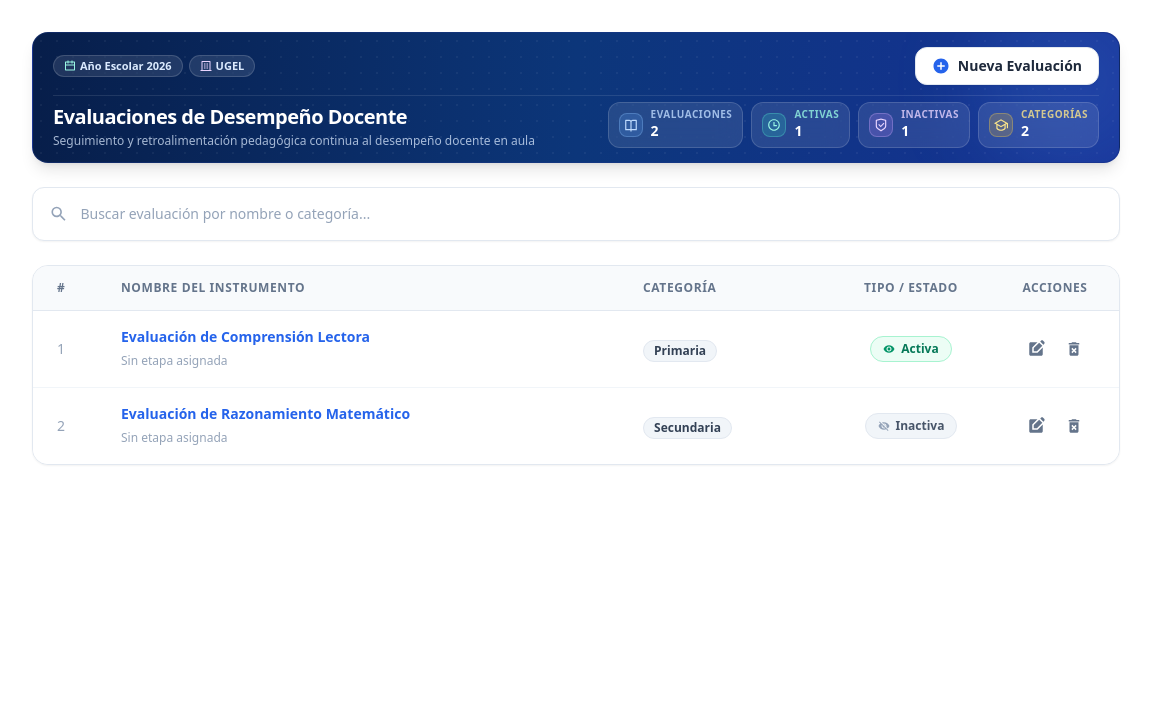
Test: EvaluacionesListContainer › muestra modal de alerta y bloquea la activación si la evaluación inactiva no tiene fase creada
The image size is (1152, 720).
Click the button titled "Inactiva (Clic para activar)". click: (911, 426)
box: [864,413,957,439]
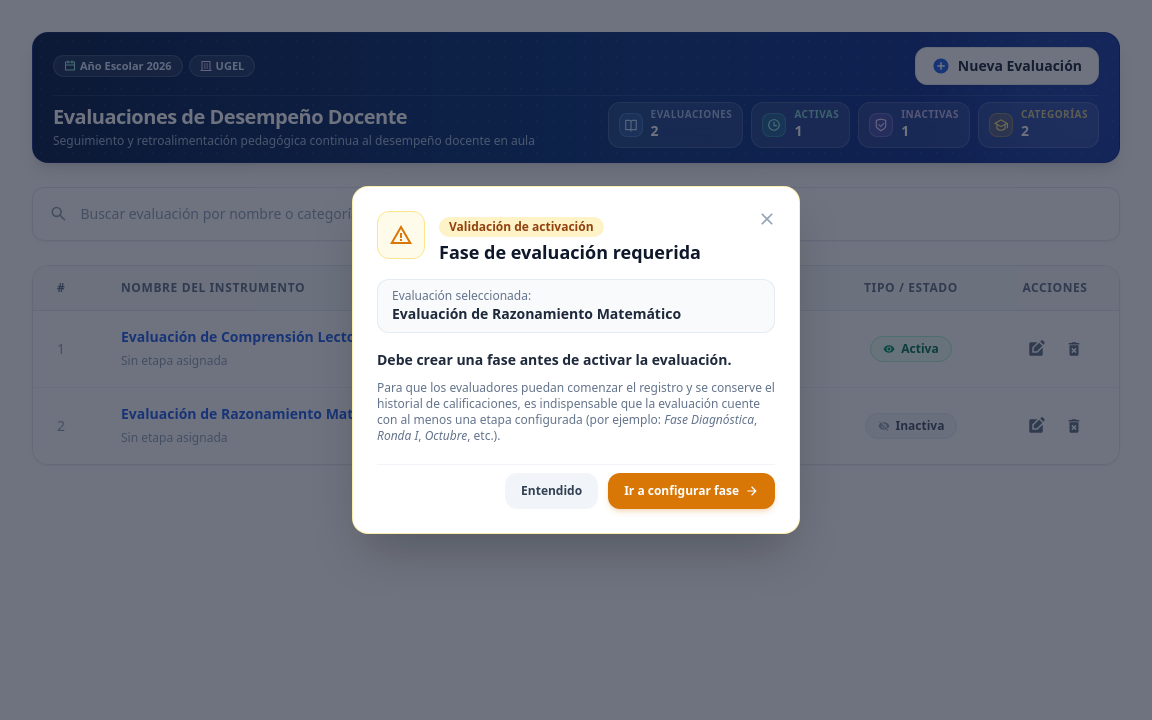
Expected: the heading "Fase de evaluación requerida" is shown, [439,241,701,263]
Expected: the text "Debe crear una fase antes de activar la evaluación." is shown, [377,349,775,372]
// Al pulsar "Entendido" se cierra el modal
Click the button "Entendido". click: (552, 491)
box: [505,473,598,509]
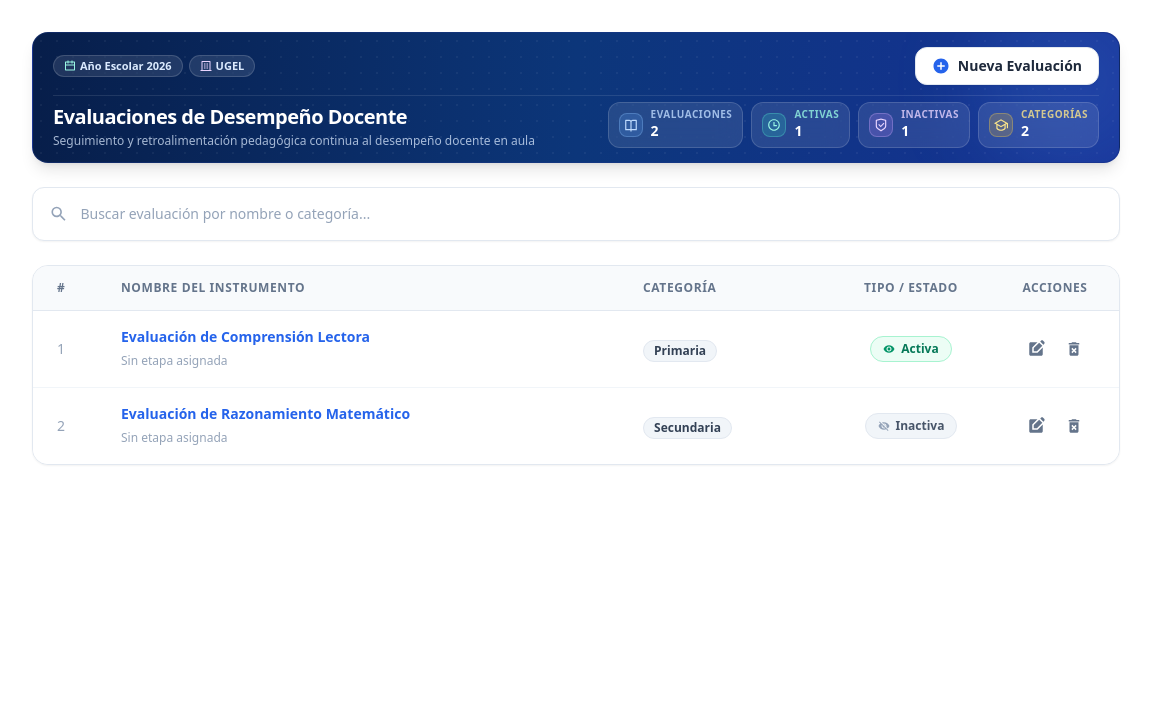
Expected: the text "Debe crear una fase antes de activar la evaluación" is gone
